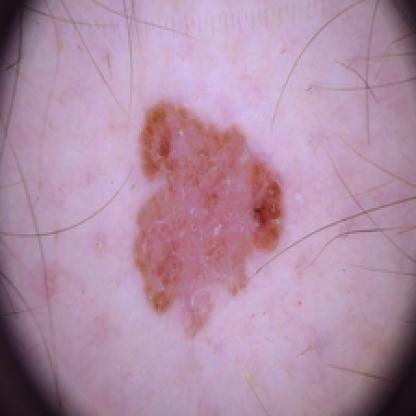Skin_Cancer-Malignant: (134, 98, 291, 339)
